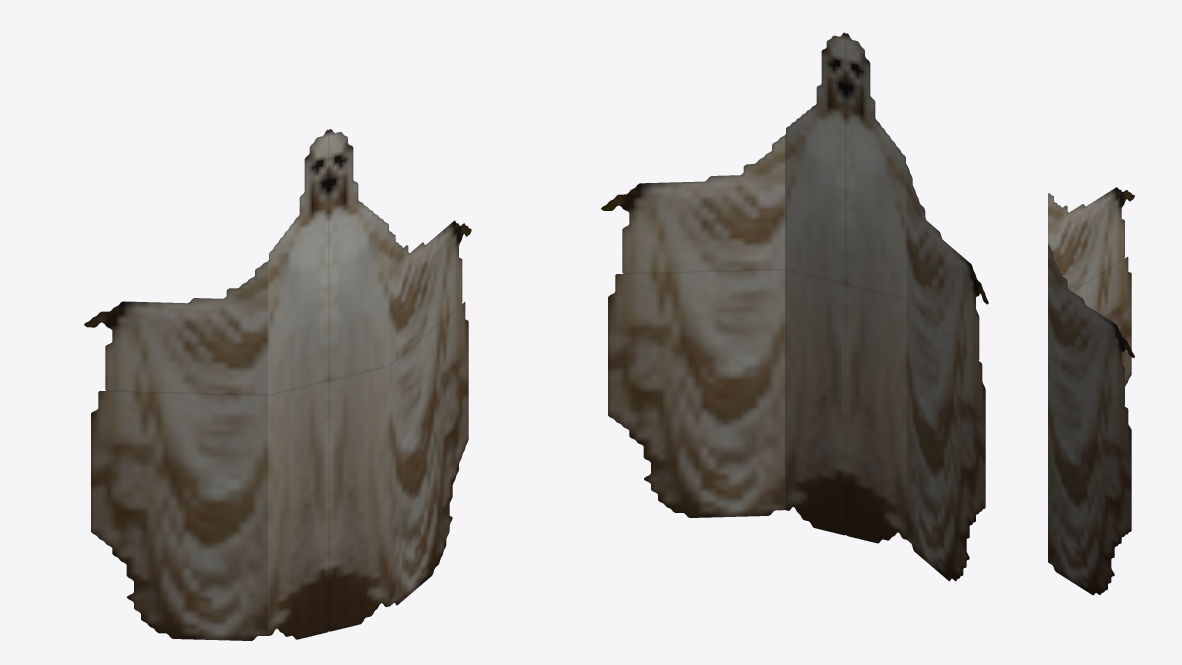
File: Ghost.obj
3 views of the same model, side by side, from view 1: azimuth 30°, elevation 25°; view 2: azimuth 150°, elevation 25°; view 3: azimuth 270°, elevation 25° (orthographic). The views are drawn at different scales.
Parts seen in each view (by area): view 1: Ghost; view 2: Ghost; view 3: Ghost.
Part boxes in pixels (<box>): Ghost: <box>84,129,471,640</box>; Ghost: <box>601,32,988,581</box>; Ghost: <box>1048,187,1134,595</box>.
Bounding box in the file's own units: 2 × 2 × 0.5.
